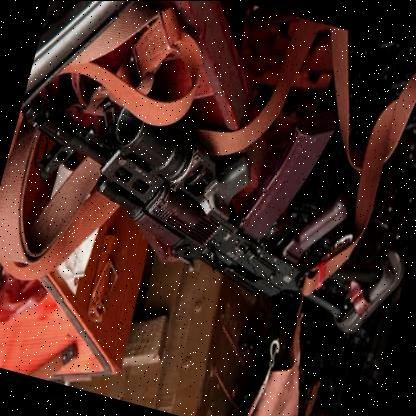rifle: (7, 50, 416, 331)
